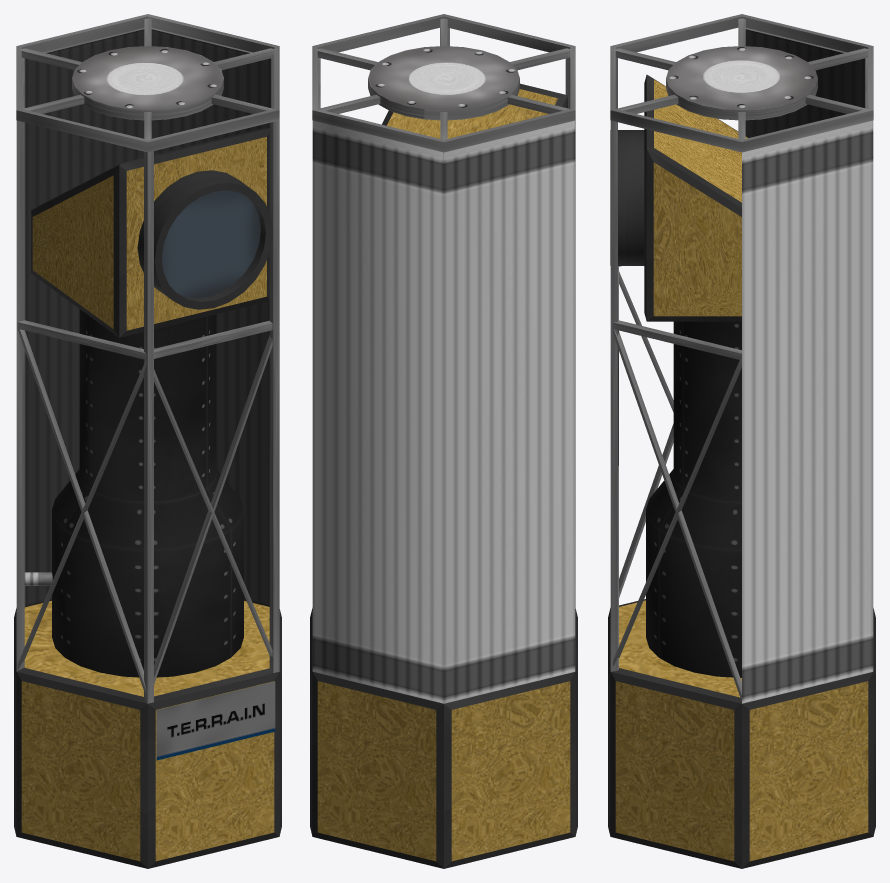
The model's file is Terrain.FBX.
The picture shows the model from 3 angles, left to right: view 1: azimuth 30°, elevation 25°; view 2: azimuth 150°, elevation 25°; view 3: azimuth 270°, elevation 25°; orthographic projection.
Parts seen in each view (by area): view 1: Telescope, Sunshade, GoldPanels, Cylinder003, Cylinder004, GoldPanels3, Lens, GoldPanels5, Tube001, GoldPanels2, MirrorFrame, Nameplate (+11 smaller); view 2: Sunshade, GoldPanels, Cylinder003, Cylinder004, Tube001, GoldPanels4, SupportPole003, SupportPole004, SupportPole001; view 3: Sunshade, GoldPanels, Telescope, GoldPanels3, Cylinder003, Cylinder004, Tube001, GoldPanels4, SupportPole002, MirrorFrame, Telescope001, GoldPanels2 (+7 smaller).
Boxes of the visible parts, x1,y1,x2,y2 form: Telescope: (52,309,243,677); Sunshade: (16,28,274,671); GoldPanels: (21,681,274,861); Cylinder003: (14,608,281,868); Cylinder004: (72,46,223,120); GoldPanels3: (32,175,113,328); Lens: (162,190,260,298); GoldPanels5: (126,137,266,330); Tube001: (16,14,279,152); GoldPanels2: (24,601,269,696); MirrorFrame: (31,128,269,337); Nameplate: (156,681,275,760); Sunshade: (312,57,575,703); GoldPanels: (317,681,570,861); Cylinder003: (310,608,577,868); Cylinder004: (368,46,519,120); Tube001: (312,14,575,152); GoldPanels4: (386,89,557,138); SupportPole003: (317,48,569,113); SupportPole004: (318,48,570,113); SupportPole001: (565,57,575,607); Sunshade: (742,28,873,703); GoldPanels: (615,681,868,861); Telescope: (646,321,741,677); GoldPanels3: (653,162,741,316); Cylinder003: (608,599,875,868); Cylinder004: (666,46,817,120); Tube001: (610,14,873,152); GoldPanels4: (654,79,747,202); SupportPole002: (610,120,617,671); MirrorFrame: (644,74,748,321); Telescope001: (610,130,644,265); GoldPanels2: (619,600,741,697).
Size of what is drawn, in the model's own units: 1.25 by 1.11 by 3.3.
